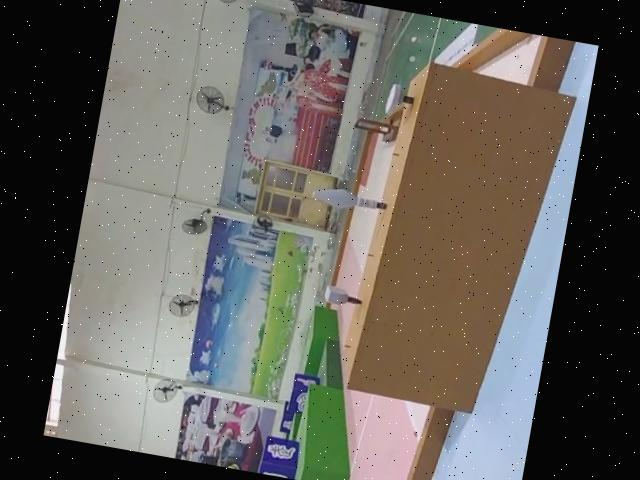Fist: (320, 283, 366, 312)
Hand: (380, 79, 413, 114)
Sph: (309, 182, 390, 219)
